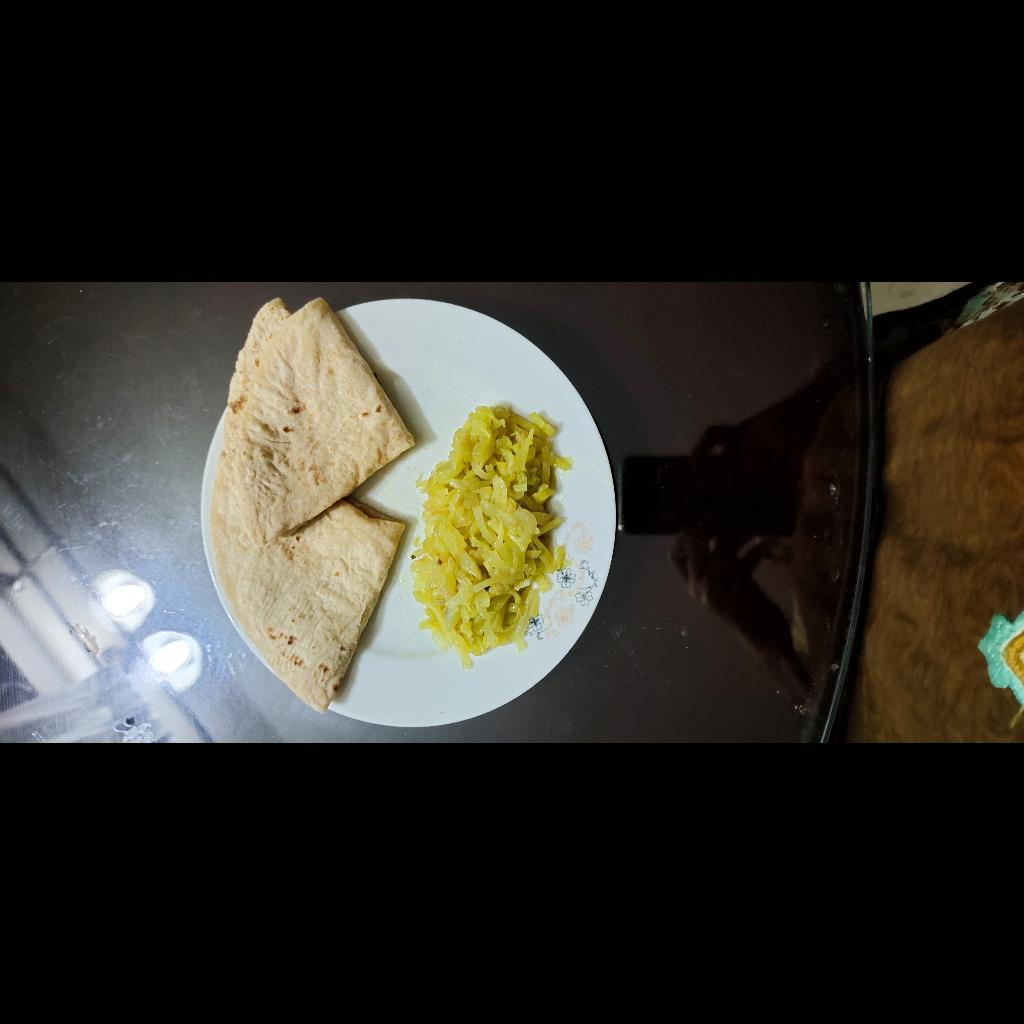ruti: (28, 491, 451, 696)
vegetable: (69, 689, 345, 851)
